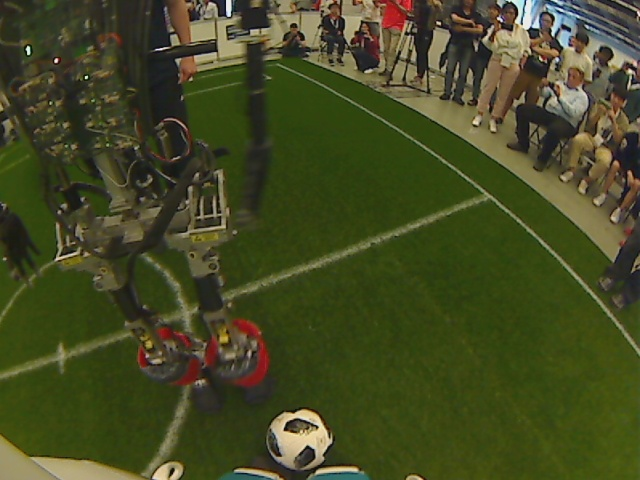ball: (263, 407, 336, 473)
robot: (1, 1, 282, 413)
